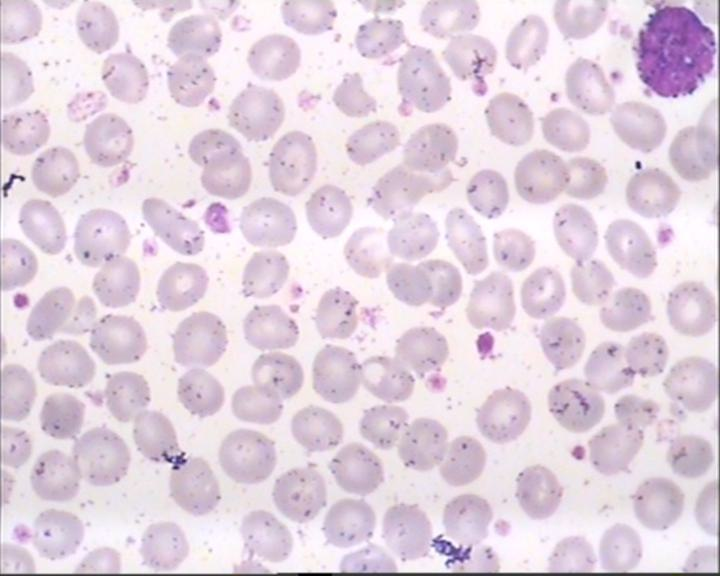baso: (624, 0, 717, 103)
